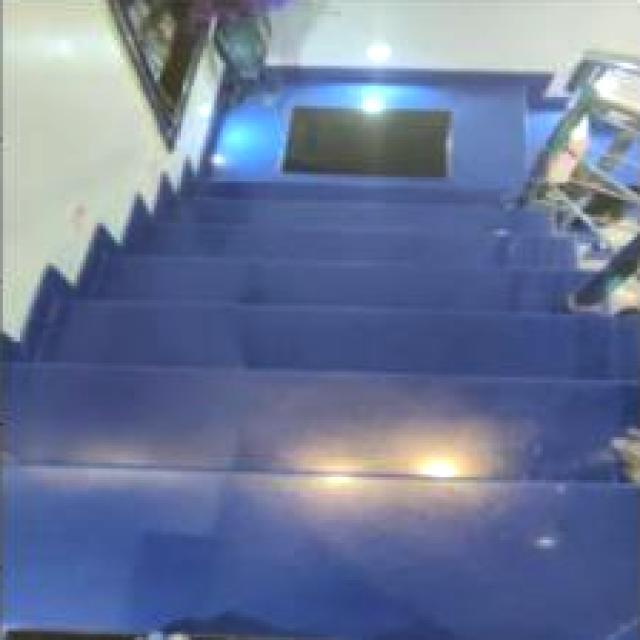downstair: (167, 295, 550, 541)
